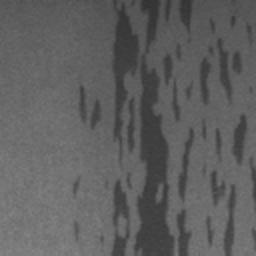Red iron sheet: (111, 0, 256, 256), (206, 172, 237, 256), (79, 84, 100, 128), (73, 177, 81, 200), (246, 23, 252, 44), (74, 221, 79, 242), (230, 15, 236, 27), (210, 19, 215, 32)
